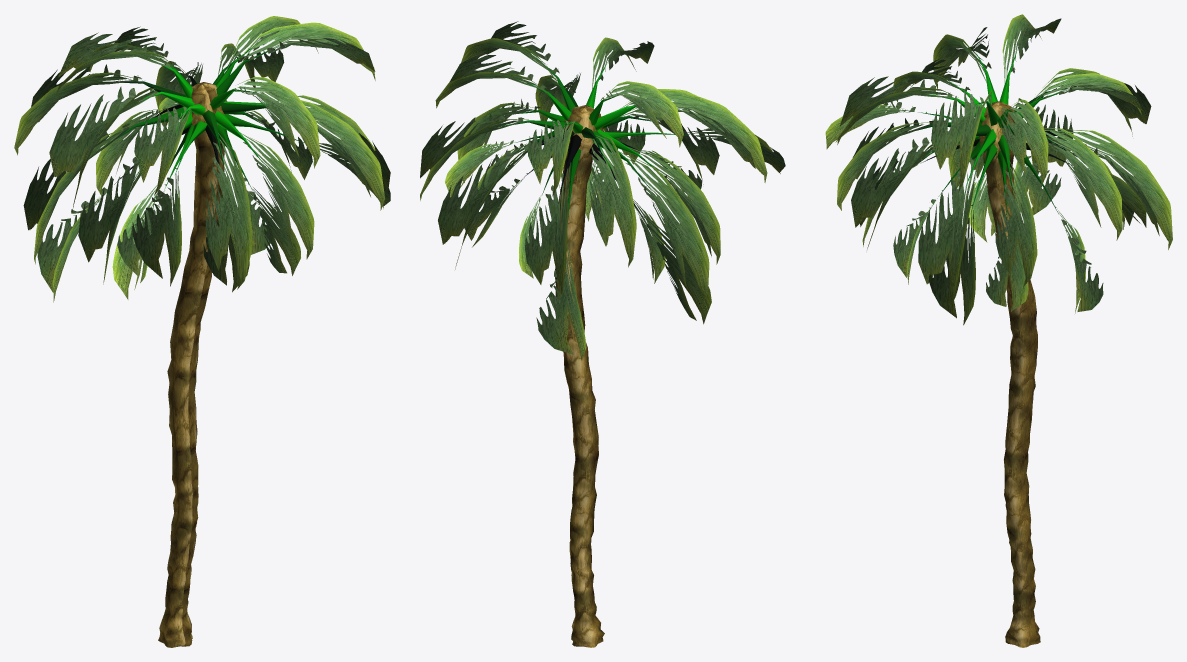
File: palm.fbx
3 views of the same model, side by side, from view 1: azimuth 30°, elevation 25°; view 2: azimuth 150°, elevation 25°; view 3: azimuth 270°, elevation 25° (orthographic). The views are drawn at different scales.
Parts seen in each view (by area): view 1: leaf_2, trunk_0, leaf_3, frond stem_1; view 2: leaf_2, trunk_0, leaf_3, frond stem_1; view 3: leaf_2, trunk_0, leaf_3, frond stem_1.
Part boxes in pixels (x1,y1,x2,y2): leaf_2: (14, 16, 390, 289); trunk_0: (158, 82, 226, 647); leaf_3: (37, 97, 390, 302); frond stem_1: (103, 46, 303, 190); leaf_2: (420, 21, 767, 301); trunk_0: (555, 105, 604, 647); leaf_3: (445, 128, 785, 360); frond stem_1: (499, 55, 687, 221); leaf_2: (837, 14, 1172, 308); trunk_0: (979, 101, 1040, 647); leaf_3: (825, 95, 1146, 325); frond stem_1: (917, 49, 1093, 217).
Bounding box in the file's own units: 297 × 527 × 286.
